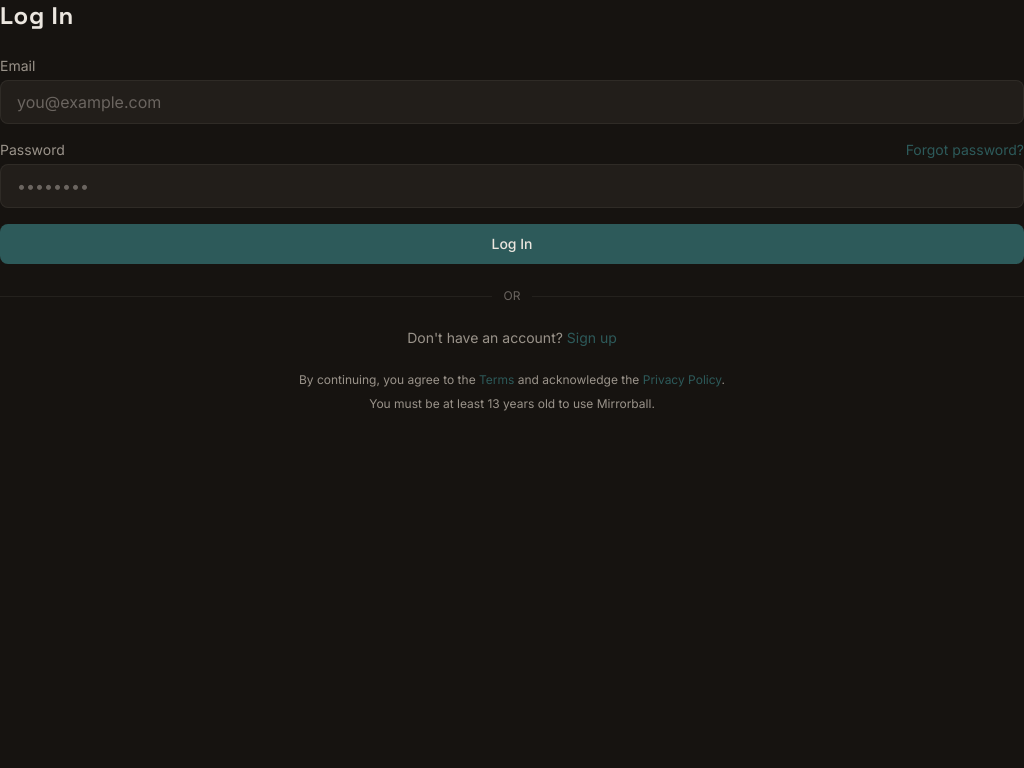
Test case: LoginPage › opens forgot-password dialog and sends reset email via Supabase
Click the button "Forgot password?" at (965,150), box [906,140,1023,160]
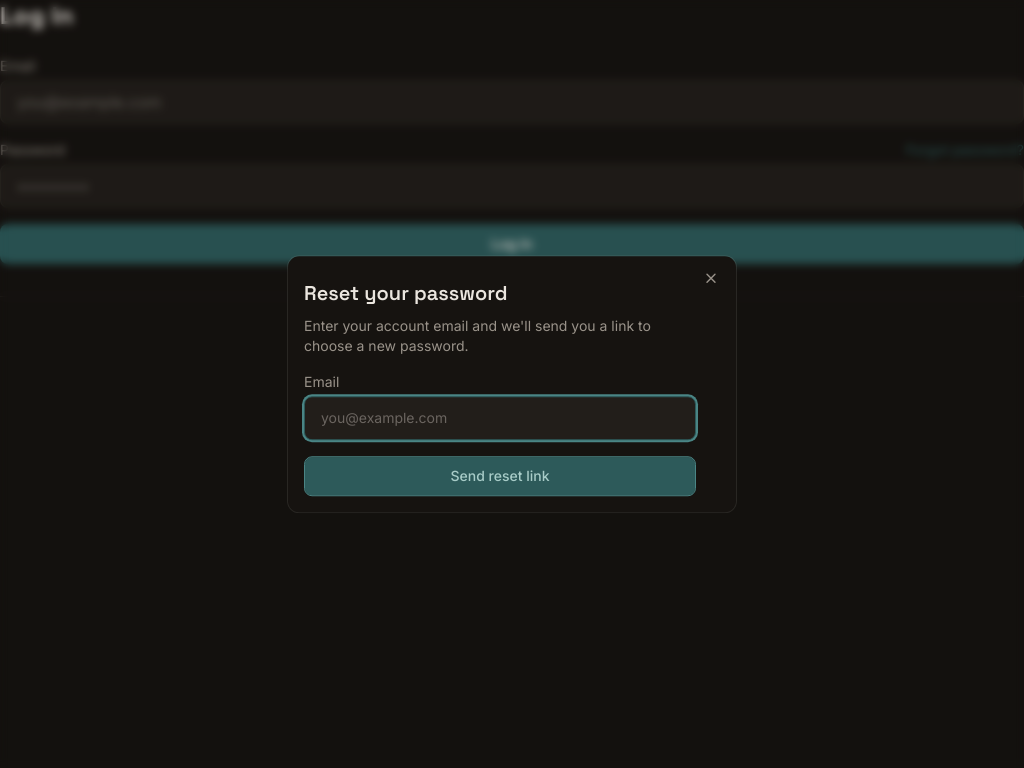
Now the heading "Reset your password" is shown, box [304,280,508,306]
Type "recover@example.com" into the field labelled "Email" at (500,418), box [304,396,696,440]
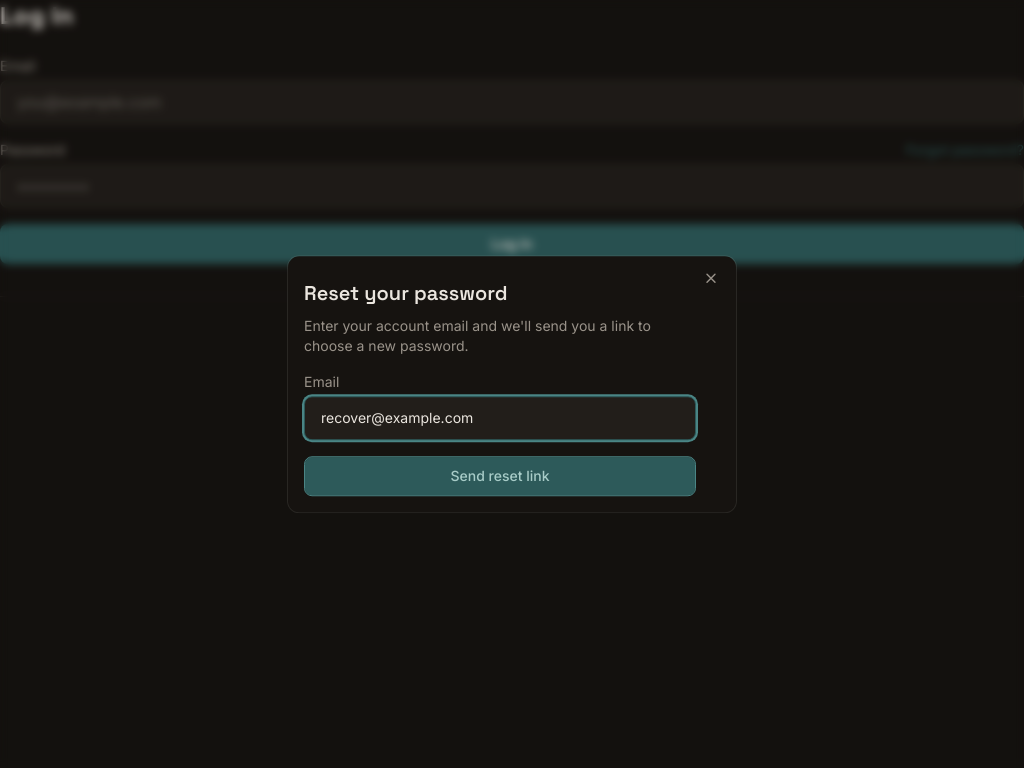
Click the button "Send reset link" at (500,476), box [304,456,696,496]
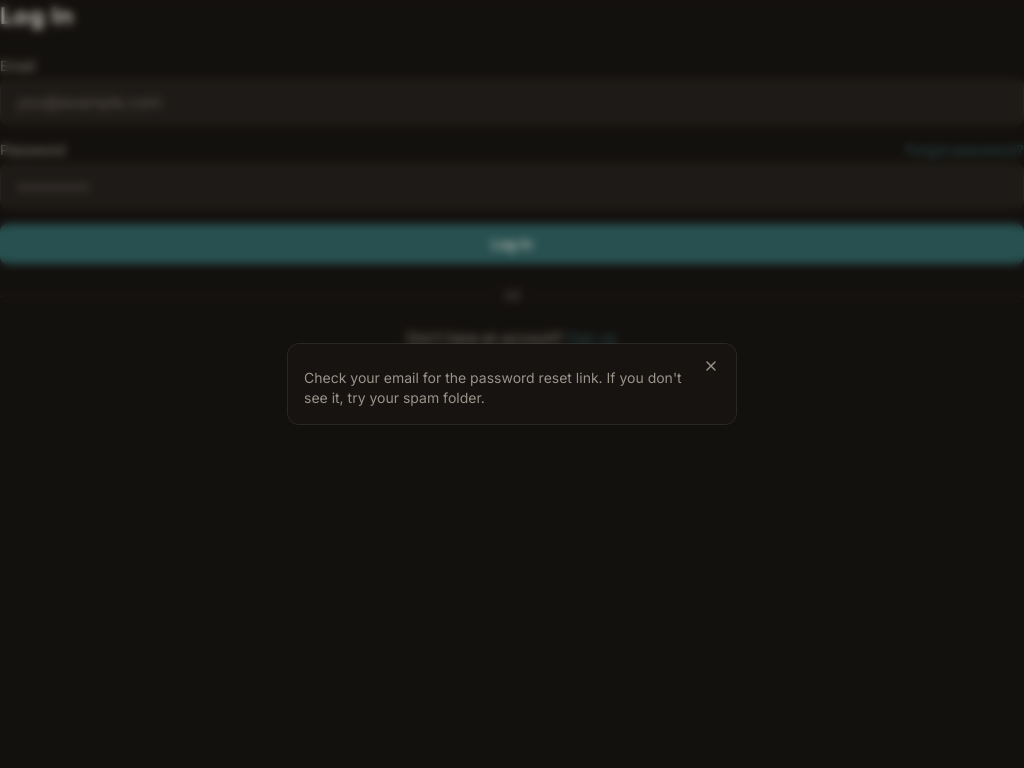
Now the text "Check your email for the password reset link" is shown, box [304,369,682,406]
